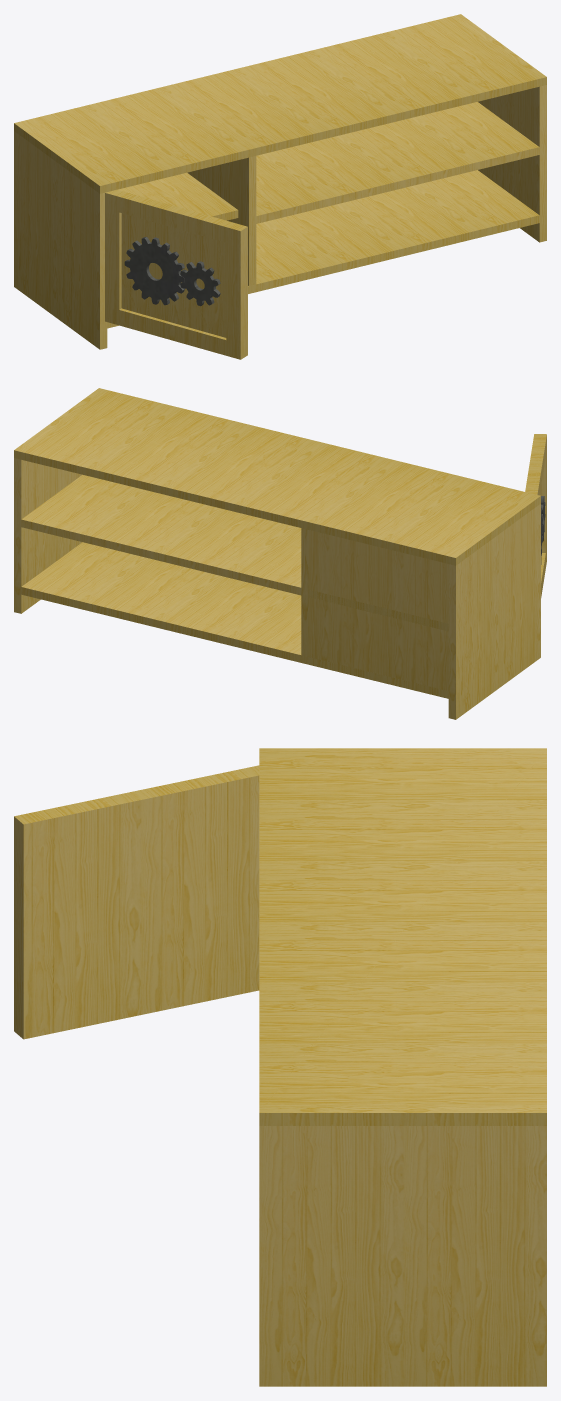
The picture shows the model from 3 angles, top to bottom: view 1: azimuth 30°, elevation 25°; view 2: azimuth 150°, elevation 25°; view 3: azimuth 270°, elevation 25°; orthographic projection. The views are drawn at different scales.
Visible parts, largest first — view 1: 69281, 69282, 69304, 69279, 69284, 69199, 69280, 69283, 16 Tooth Gear, 69305, 10 Tooth Gear; view 2: 69281, 69282, 69476, 69304, 69279, 69280, 69305, 69283, 69284, 69199; view 3: 69281, 69280, 69199, 69284.
Boxes of the visible parts, x1,y1,x2,y2 form: 69281: [14, 14, 546, 193]; 69282: [107, 170, 539, 328]; 69304: [256, 102, 539, 223]; 69279: [14, 131, 107, 349]; 69284: [105, 192, 242, 359]; 69199: [109, 189, 247, 357]; 69280: [478, 85, 546, 242]; 69283: [187, 156, 256, 285]; 16 Tooth Gear: [124, 237, 184, 305]; 69305: [118, 172, 238, 220]; 10 Tooth Gear: [180, 261, 220, 306]; 69281: [14, 388, 540, 565]; 69282: [21, 542, 448, 698]; 69476: [308, 530, 448, 690]; 69304: [21, 474, 301, 595]; 69279: [448, 504, 540, 719]; 69280: [14, 458, 82, 613]; 69305: [308, 590, 448, 631]; 69283: [301, 528, 308, 656]; 69284: [533, 434, 546, 597]; 69199: [525, 434, 542, 493]; 69281: [259, 748, 546, 1125]; 69280: [259, 1126, 546, 1386]; 69199: [17, 769, 259, 1039]; 69284: [14, 765, 259, 1033].
Bounding box in the file's own units: 1.2 × 0.42 × 0.7414.
Materials: 1163 (1163 with a texture image).
